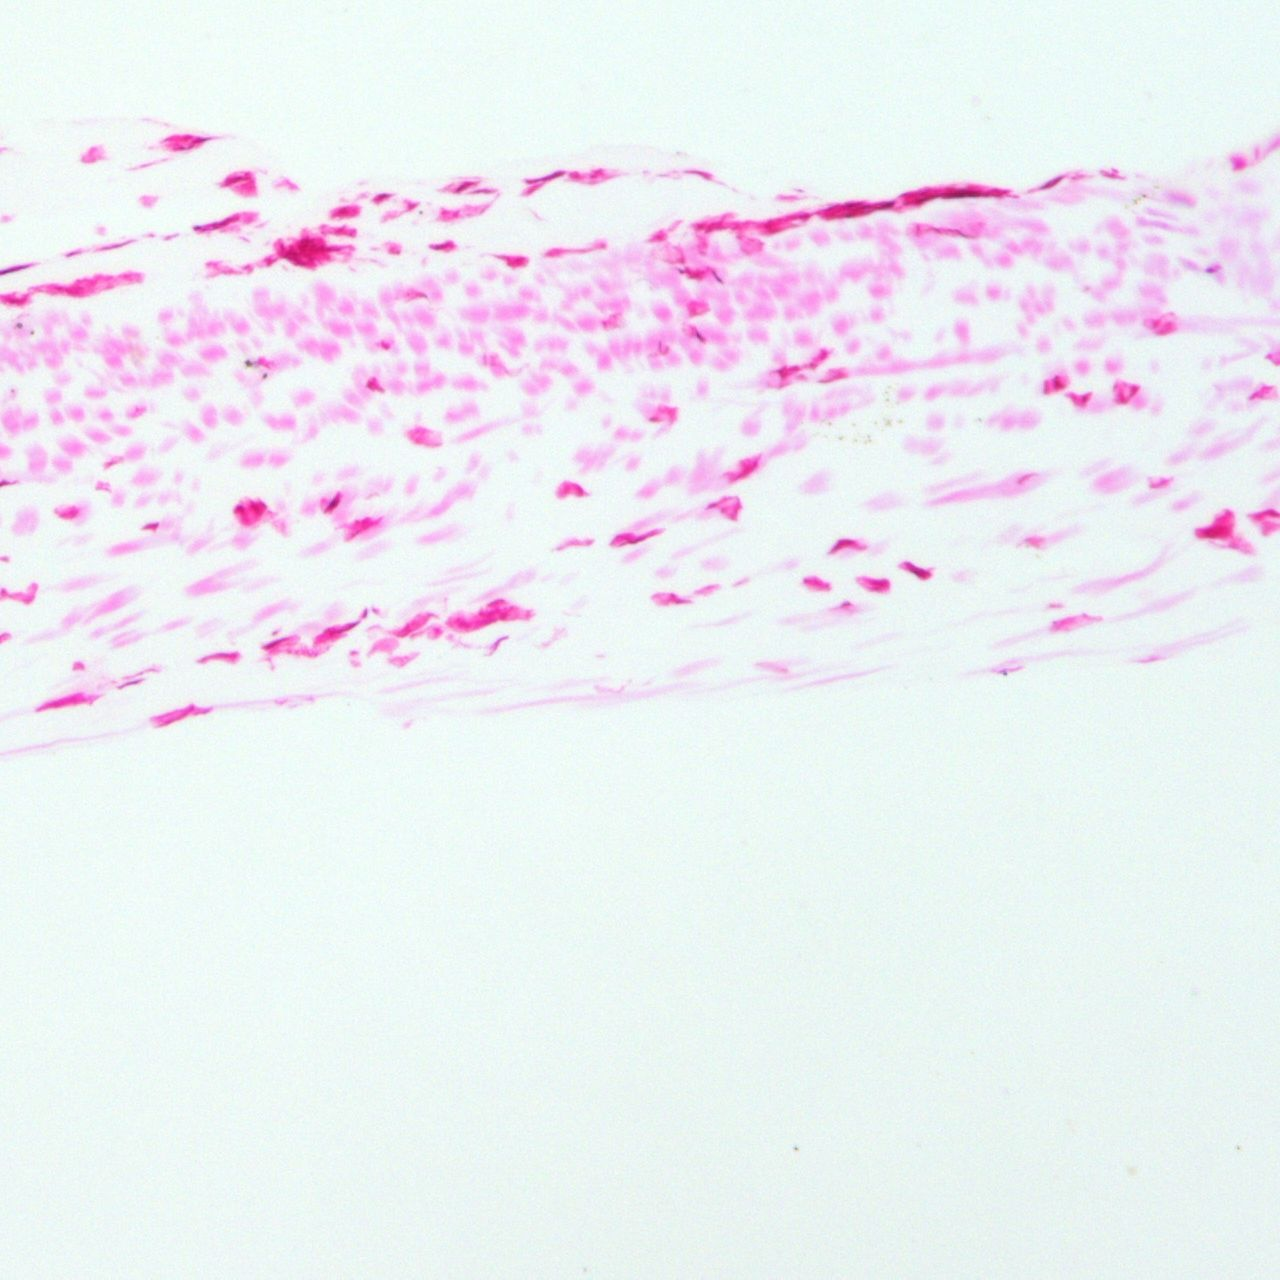dust: (244, 359, 253, 367), (16, 321, 23, 329), (792, 1145, 799, 1152), (263, 372, 268, 380), (11, 387, 16, 393), (29, 329, 34, 335), (418, 211, 423, 215)
nucleus-FG: (191, 209, 240, 236), (343, 508, 383, 540), (39, 692, 88, 713), (277, 241, 309, 272), (159, 704, 196, 729), (218, 168, 254, 191), (175, 135, 210, 152), (625, 529, 658, 547), (525, 169, 565, 184), (298, 237, 332, 254), (97, 237, 135, 252), (903, 560, 930, 581), (325, 622, 358, 636), (324, 492, 343, 515), (828, 536, 855, 552), (1041, 173, 1065, 191), (261, 636, 290, 651), (763, 219, 785, 234), (694, 222, 726, 232), (207, 652, 239, 661), (456, 178, 474, 195), (666, 592, 689, 604), (247, 501, 264, 517), (869, 578, 888, 591), (505, 256, 526, 267), (942, 191, 981, 197), (1200, 526, 1218, 539), (919, 193, 939, 203), (712, 271, 724, 285), (429, 241, 450, 250), (874, 200, 894, 209), (843, 200, 865, 207), (141, 522, 159, 530), (1117, 392, 1128, 406), (1080, 393, 1089, 408), (471, 188, 495, 193), (336, 206, 348, 218), (695, 332, 706, 343), (1266, 509, 1280, 517), (258, 499, 268, 510), (234, 504, 244, 515), (1053, 376, 1060, 390), (377, 193, 392, 198)
